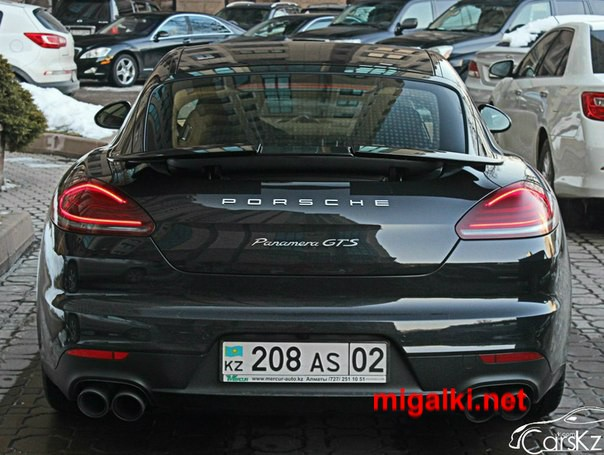license_plate: (222, 341, 387, 381)
